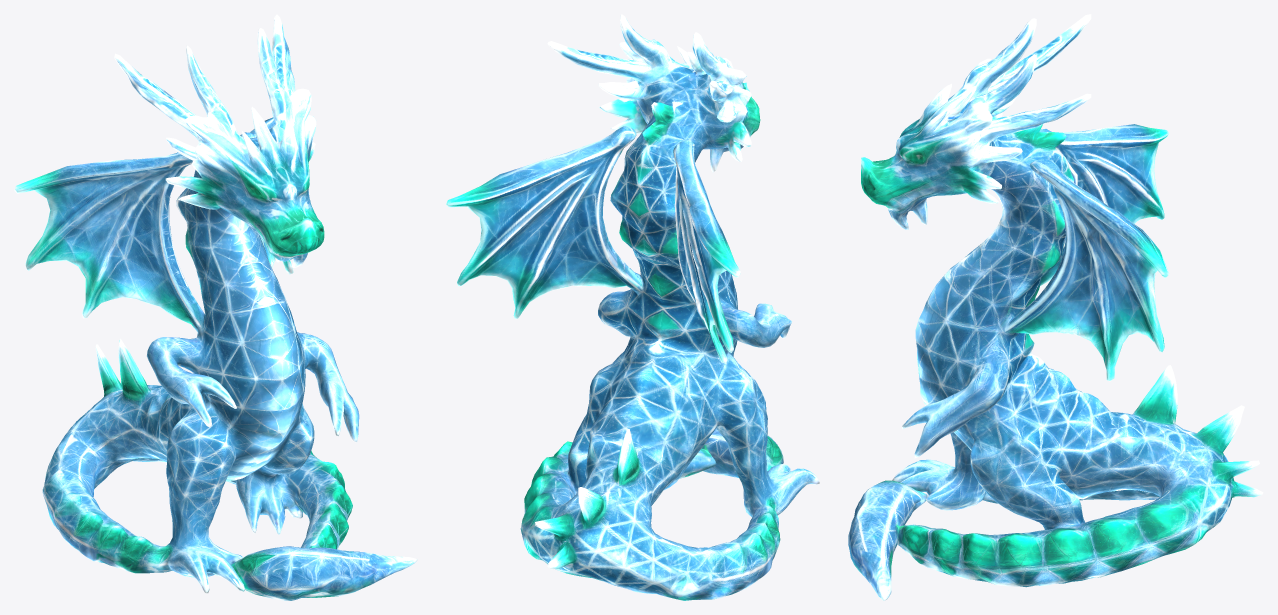
File: luster-dragon.glb
The picture shows the model from 3 angles, left to right: view 1: azimuth 30°, elevation 25°; view 2: azimuth 150°, elevation 25°; view 3: azimuth 270°, elevation 25°; orthographic projection.
Bounding box in the file's own units: 1.14 × 1.91 × 1.4.
Materials: 1 (1 with a texture image).
